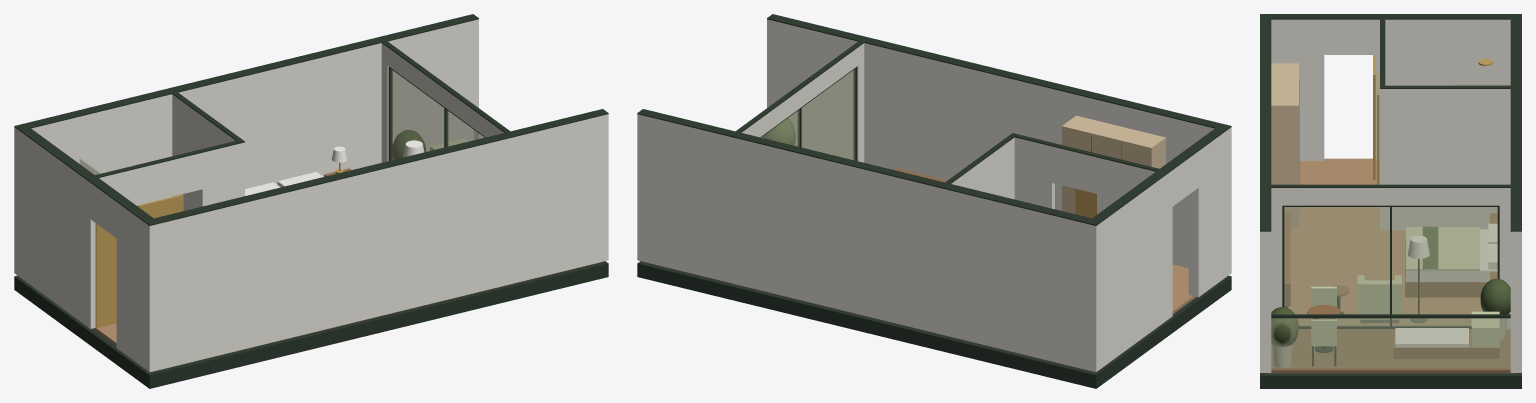
Rendered from phong-superior.glb.
The picture shows the model from 3 angles, left to right: view 1: azimuth 30°, elevation 25°; view 2: azimuth 150°, elevation 25°; view 3: azimuth 270°, elevation 25°; orthographic projection. The views are drawn at different scales.
Parts seen in each view (by area): view 1: Phong Superior; view 2: Phong Superior; view 3: Phong Superior.
Boxes of the visible parts, box(x1,y1,x2,y2) form: Phong Superior: box(14, 14, 608, 388); Phong Superior: box(637, 14, 1231, 388); Phong Superior: box(1260, 14, 1521, 388).
Size of the model in its own units: 9.2 by 3.14 by 4.7.
